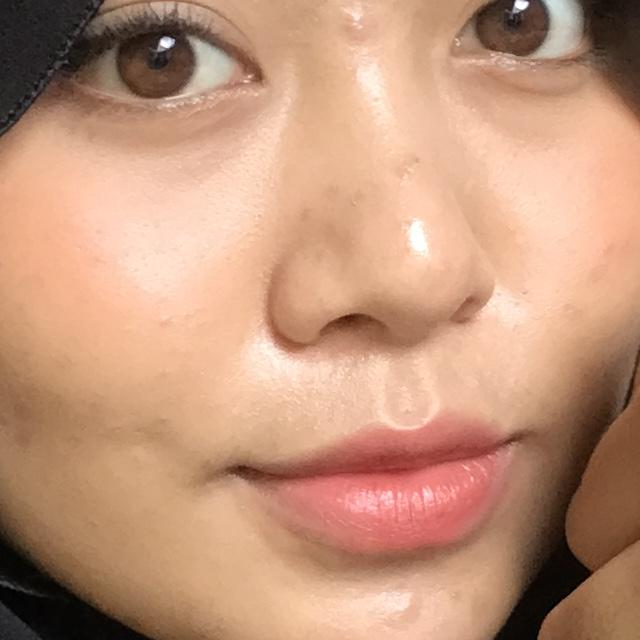telpon: (440, 0, 640, 640)
